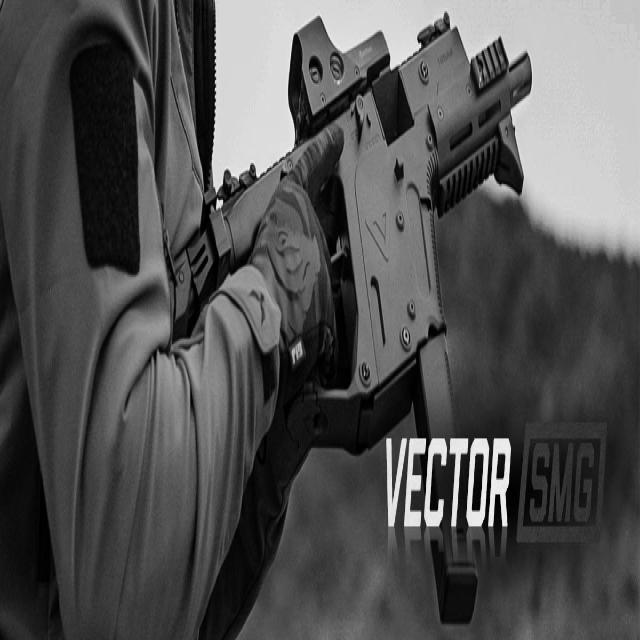Sub-machine-gun: (156, 2, 524, 640)
